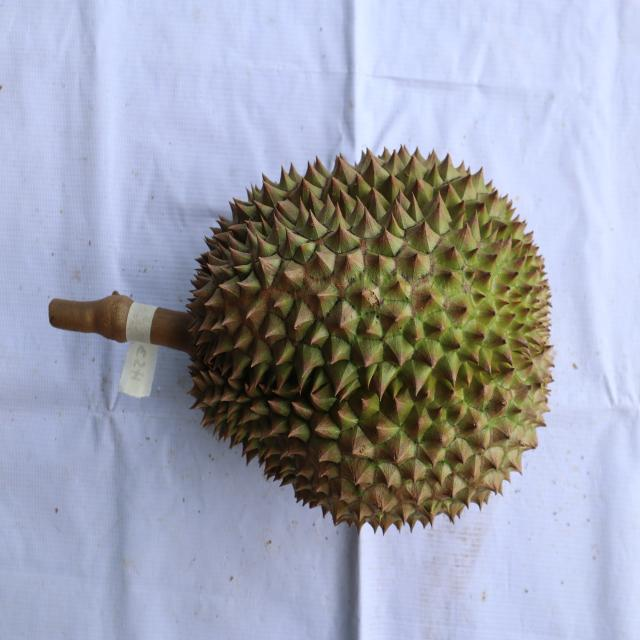mature: (178, 139, 558, 540)
